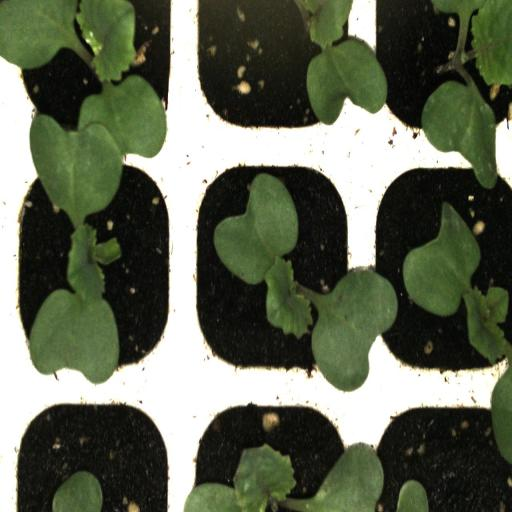seedling: (182, 154, 364, 390), (4, 148, 184, 386), (362, 154, 512, 390), (4, 0, 184, 156), (363, 1, 512, 156)
